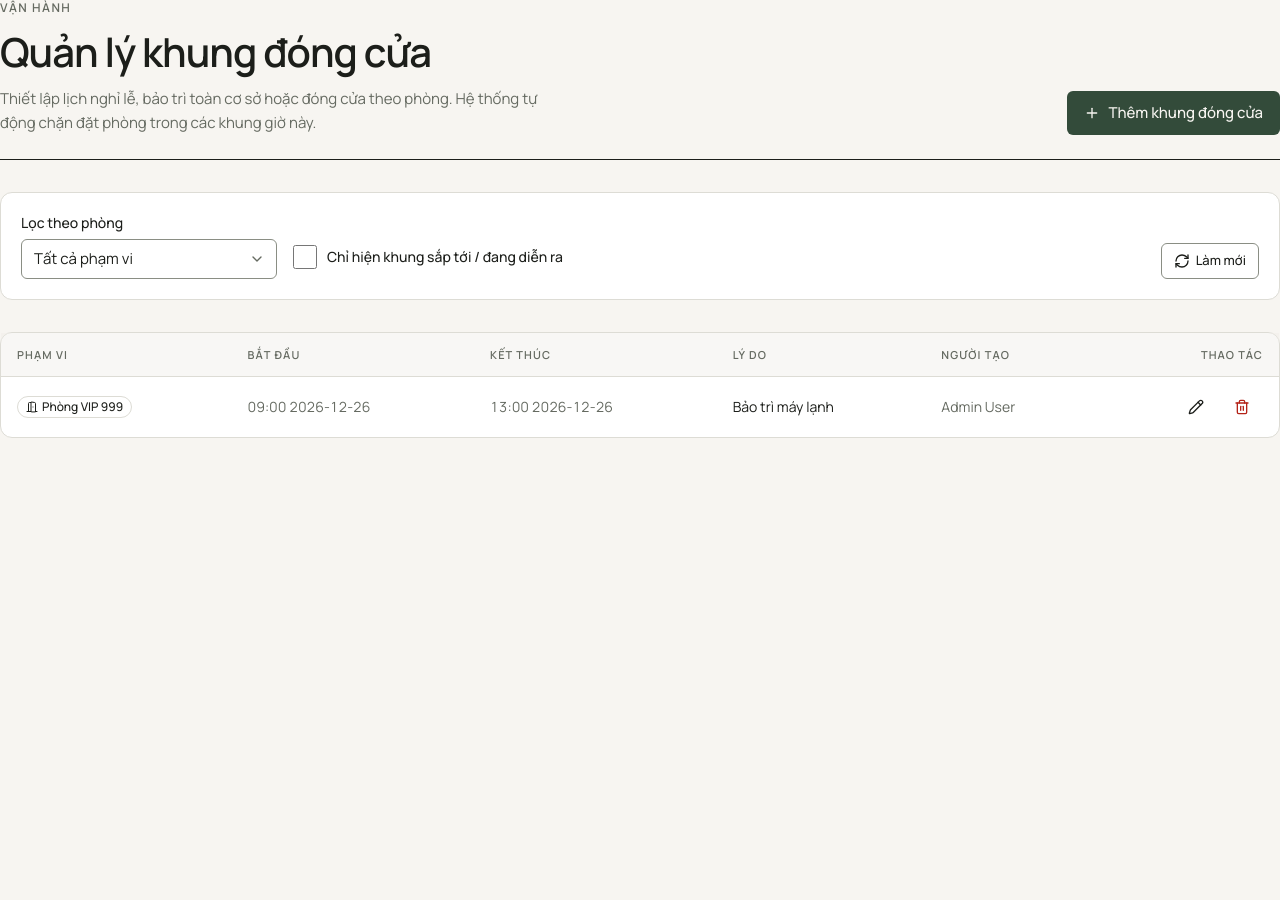
AdminClosuresPage (CWB-86) › includes fallback option for editingClosure.room when room is not in initial rooms list
Expected: the row with test id "closure-row-closure-unlisted" is shown, [1,377,1279,437]
Click the button with test id "btn-edit-closure-closure-unlisted".
click(1196, 407)  # box [1175,389,1217,425]
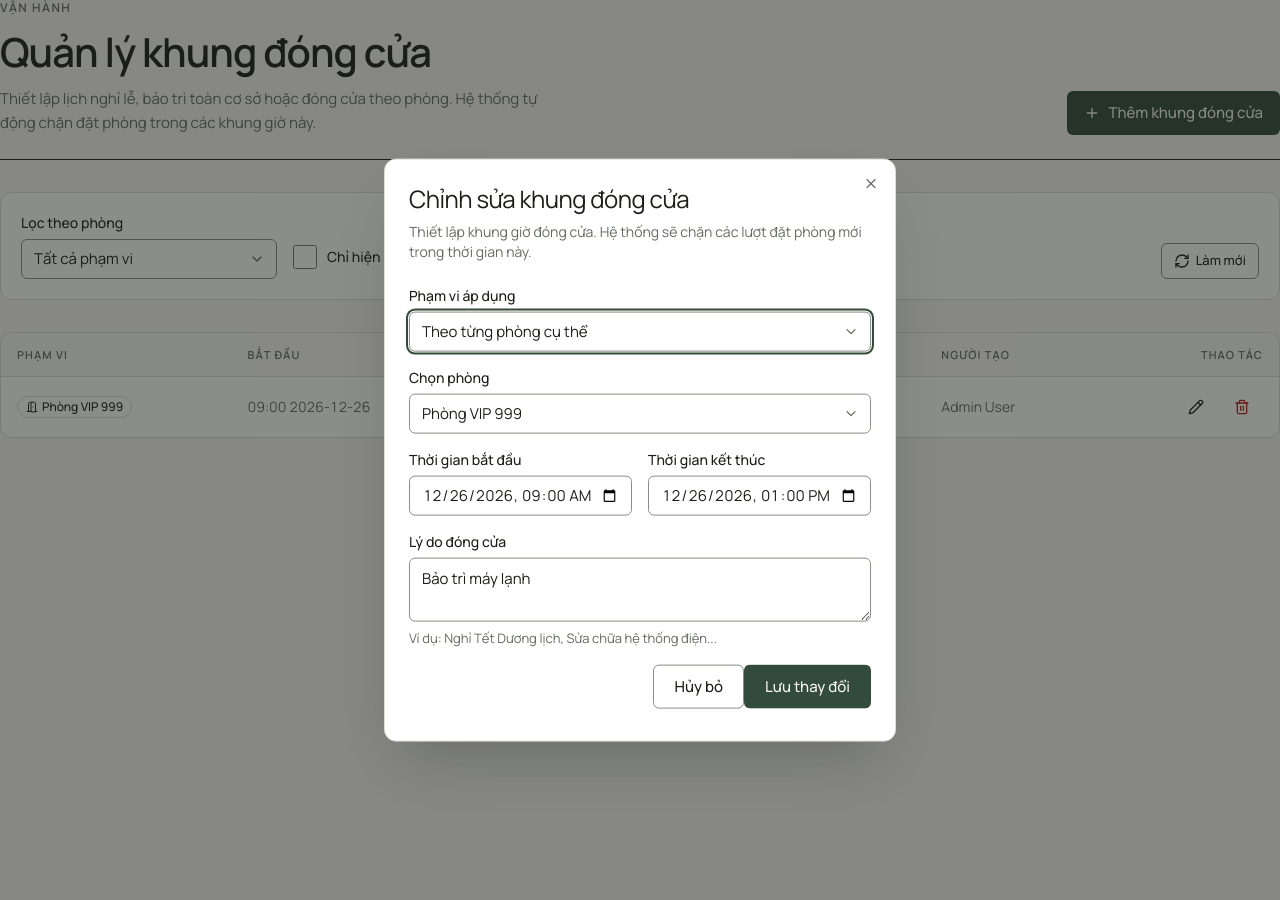
Expected: the dropdown with test id "closure-room-select" shows "Phòng VIP 999", [409,394,871,434]
